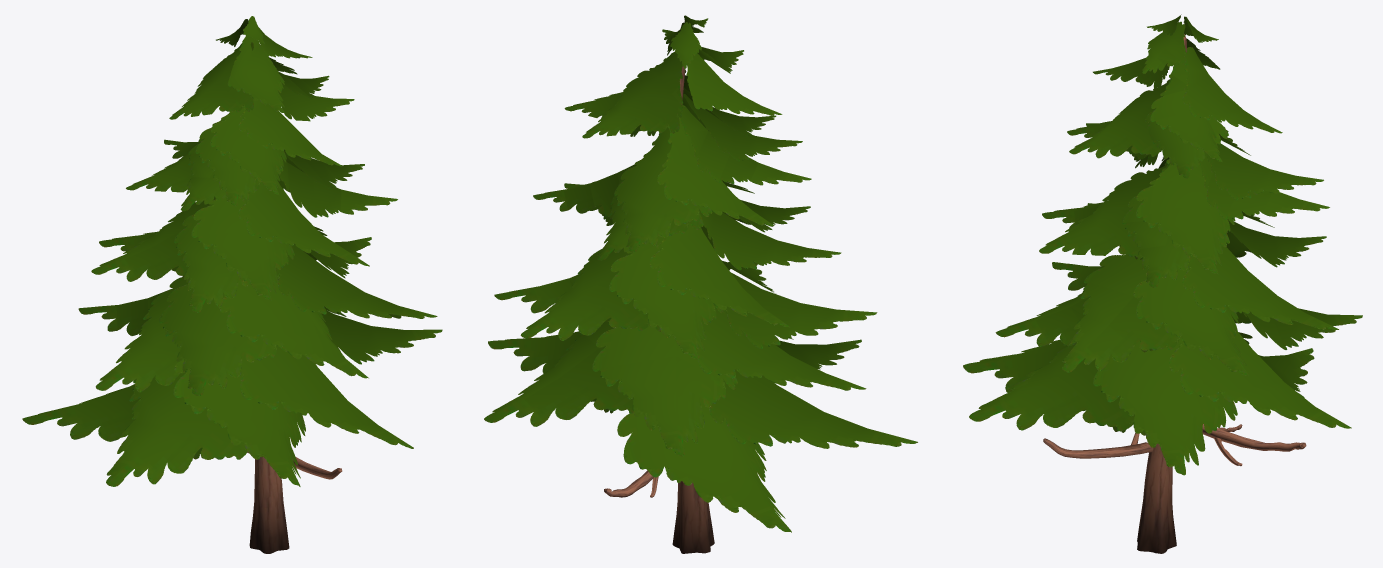
The model's file is Pine_2_LOD.glb.
The picture shows the model from 3 angles, left to right: view 1: azimuth 30°, elevation 25°; view 2: azimuth 150°, elevation 25°; view 3: azimuth 270°, elevation 25°; orthographic projection. The views are drawn at different scales.
Parts seen in each view (by area): view 1: Pine_2; view 2: Pine_2; view 3: Pine_2.
Part boxes in pixels (x1,y1,x2,y2): Pine_2: [22, 16, 442, 553]; Pine_2: [484, 15, 917, 553]; Pine_2: [963, 14, 1362, 553].
Size of the model in its own units: 5.73 by 7.38 by 5.22.
2 materials, 2 textured.
